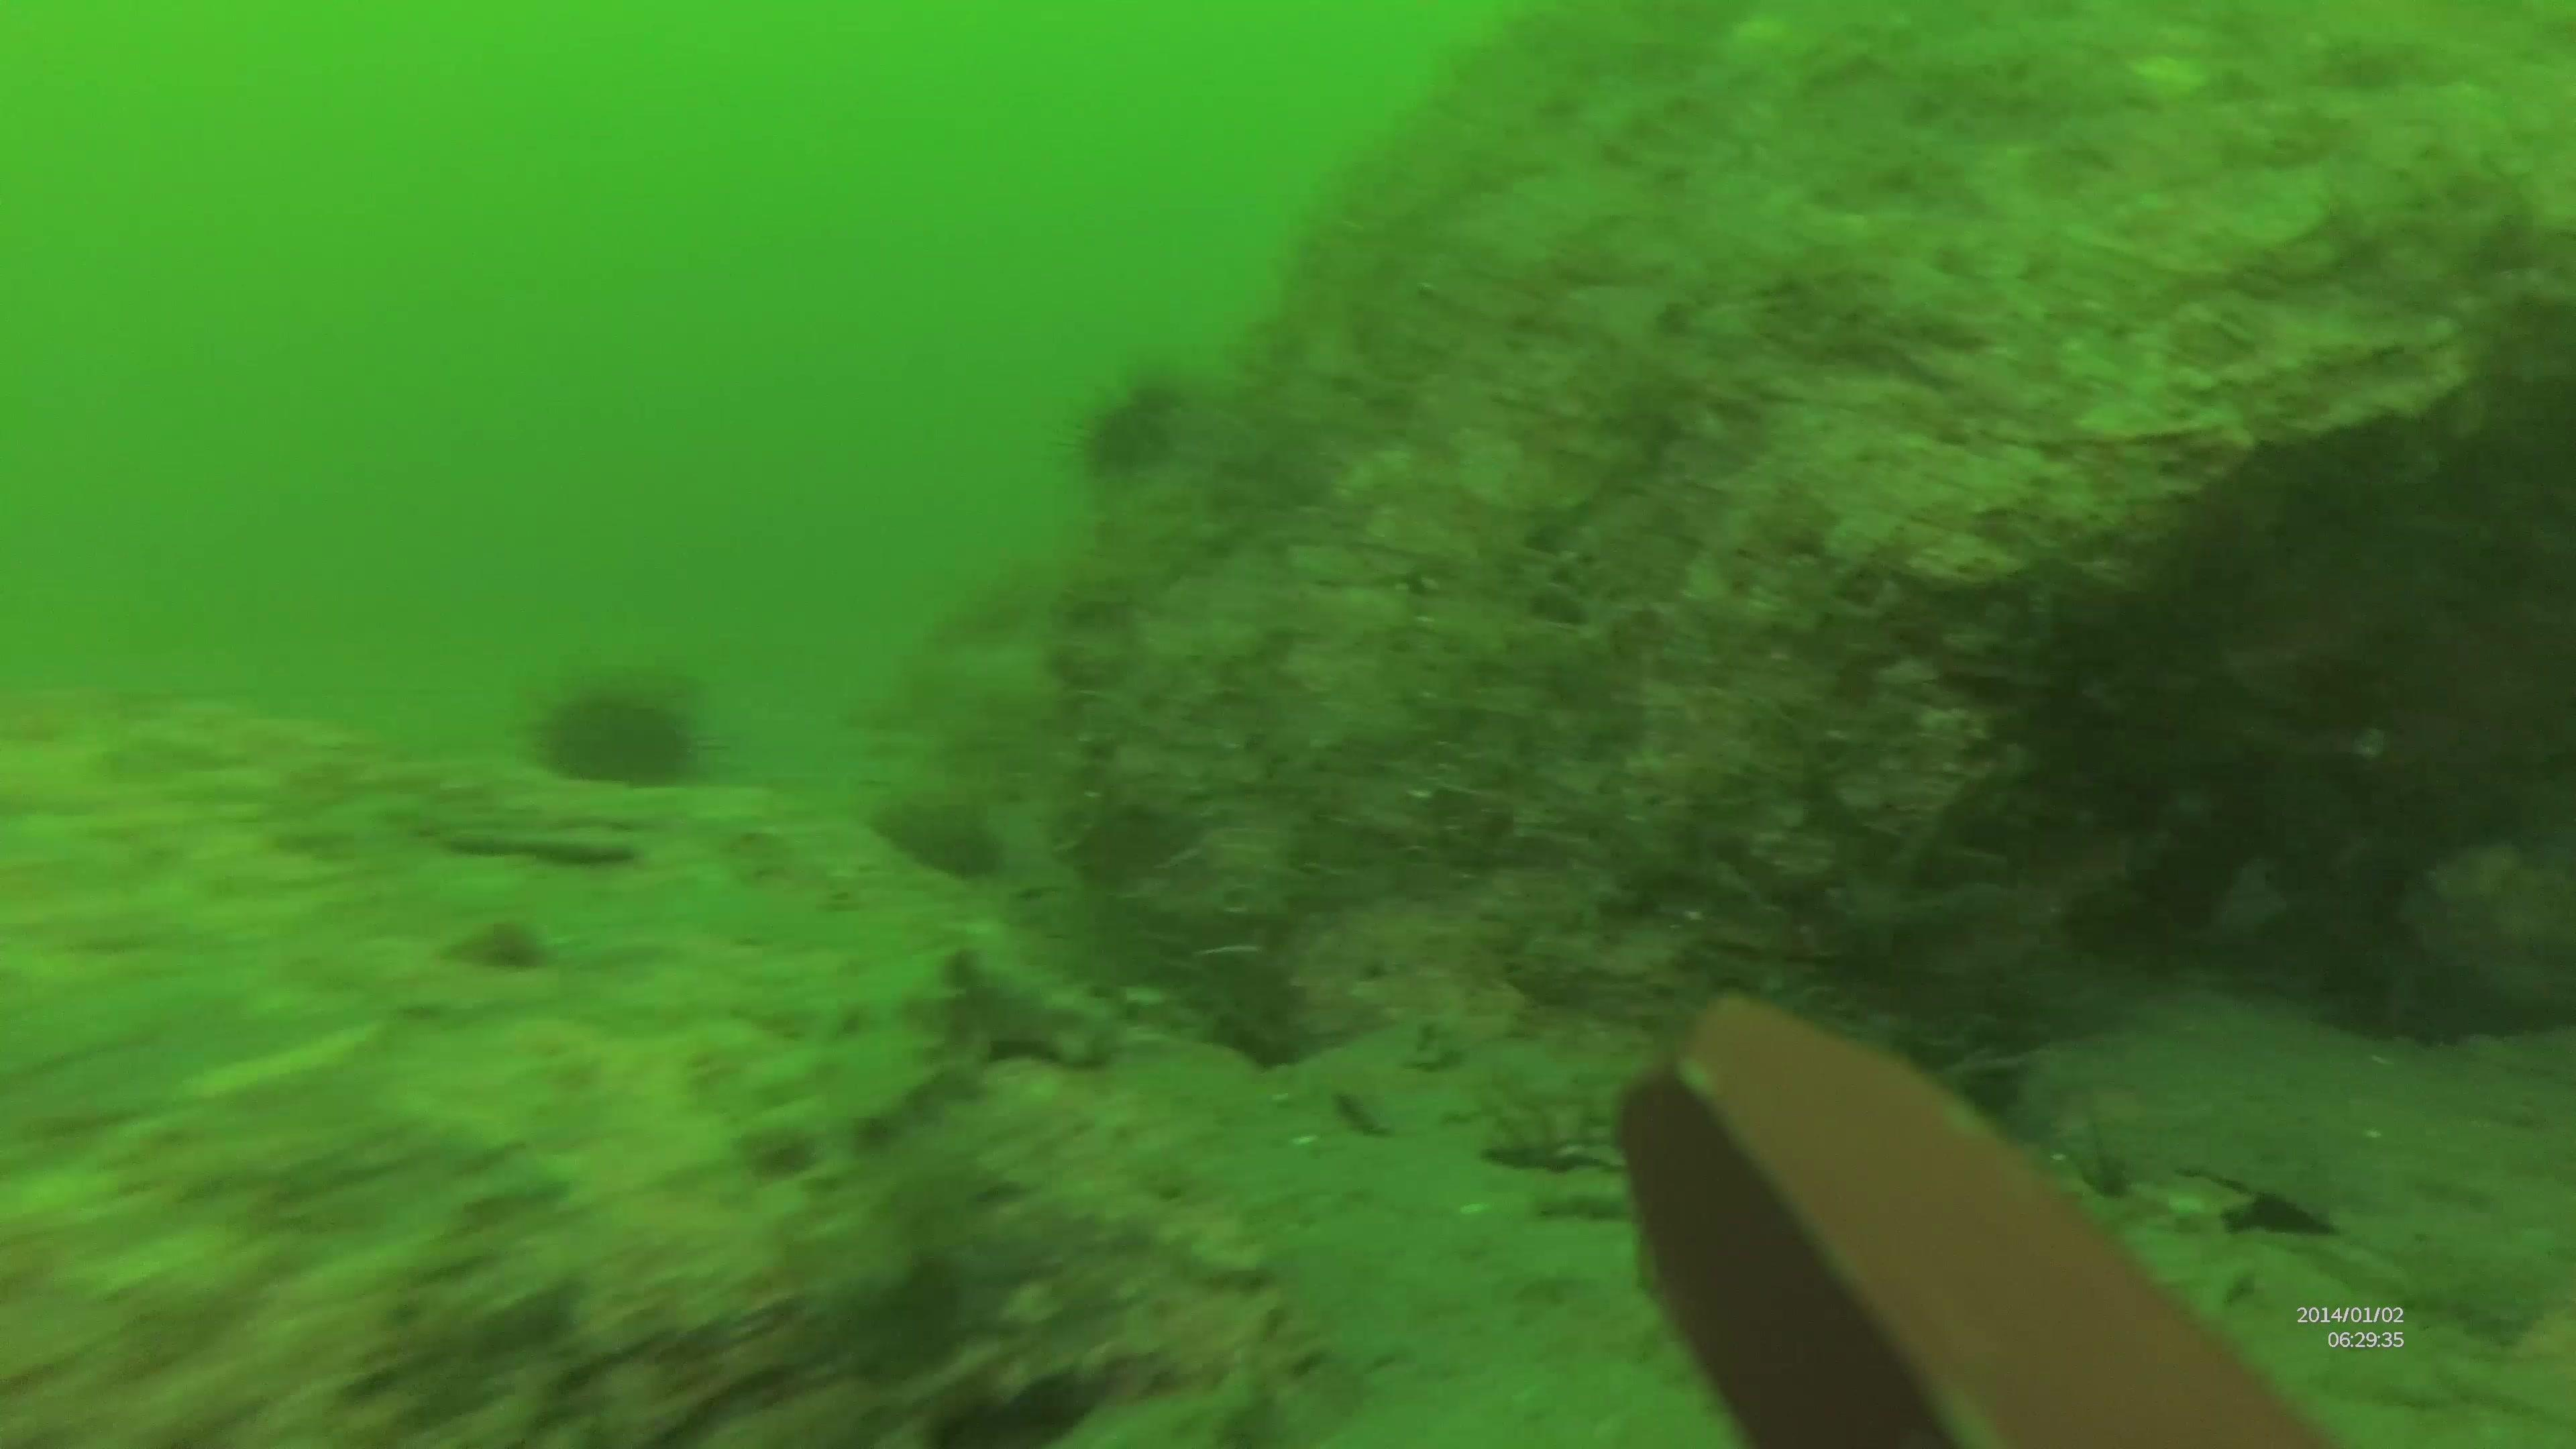echinus: (527, 672, 720, 786), (1065, 366, 1201, 485)
